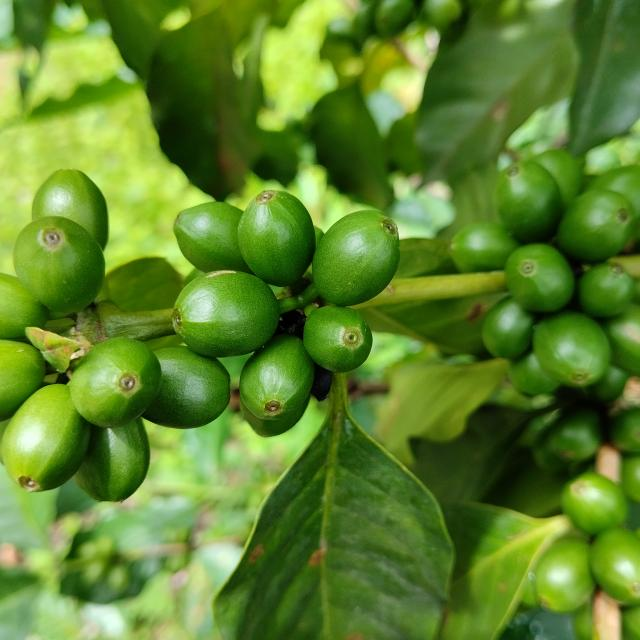green: (0, 385, 90, 492), (172, 270, 280, 357), (12, 216, 104, 314), (312, 210, 400, 306), (68, 338, 161, 428), (239, 334, 315, 437), (238, 190, 316, 286), (141, 346, 230, 429), (73, 418, 149, 502), (533, 311, 612, 388), (495, 160, 564, 242), (173, 201, 251, 273), (505, 243, 576, 313), (303, 305, 373, 373), (0, 340, 45, 422), (451, 221, 520, 273), (482, 298, 536, 359), (532, 149, 584, 211)
